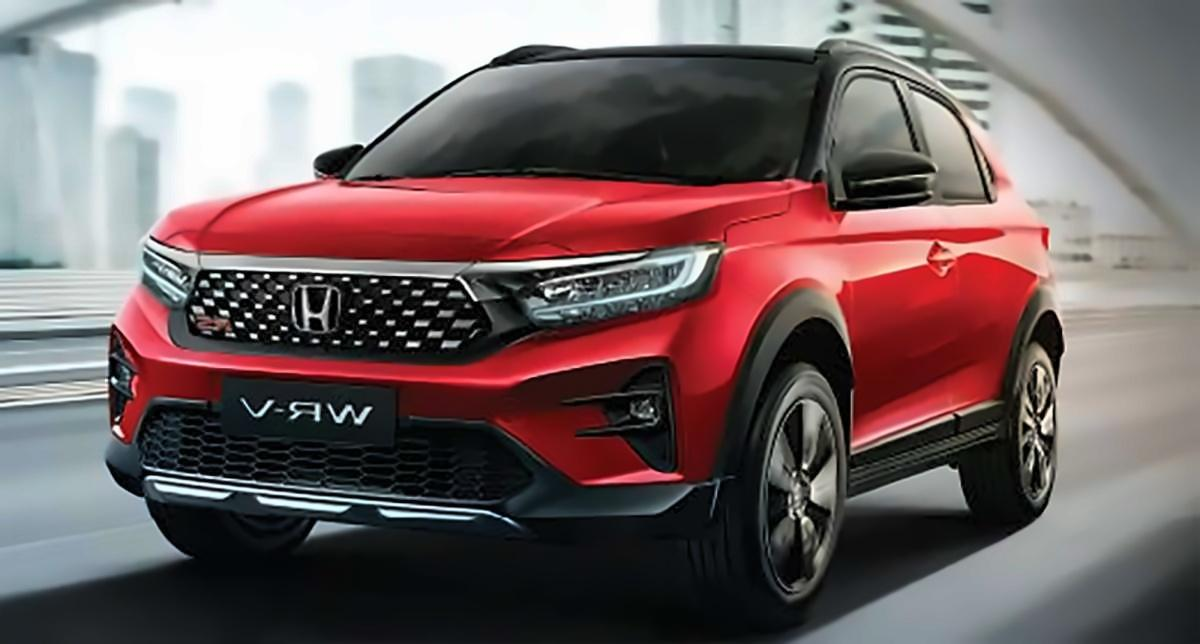Car hood: (141, 174, 789, 262)
Front bumper: (90, 270, 779, 546)
Headlight - -L-: (473, 241, 721, 332)
Headlight - -R-: (137, 237, 198, 312)
Passenger-s door - -F-L-: (812, 37, 973, 493)
Passenger-s door - -R-L-: (889, 47, 1022, 484)
Side bumper - -L-: (839, 379, 1008, 523)
Side mirror - -L-: (829, 143, 939, 216)
